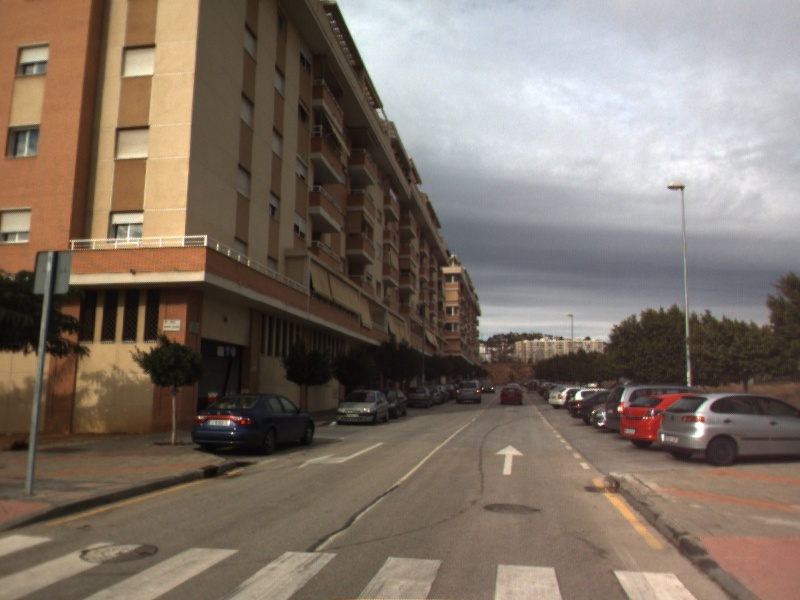STRAIGHT: (493, 443, 525, 477)
